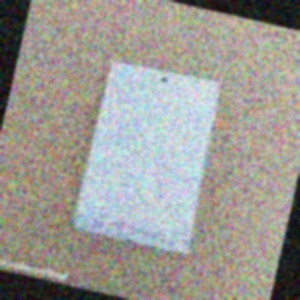bershka: (167, 99, 235, 296)
